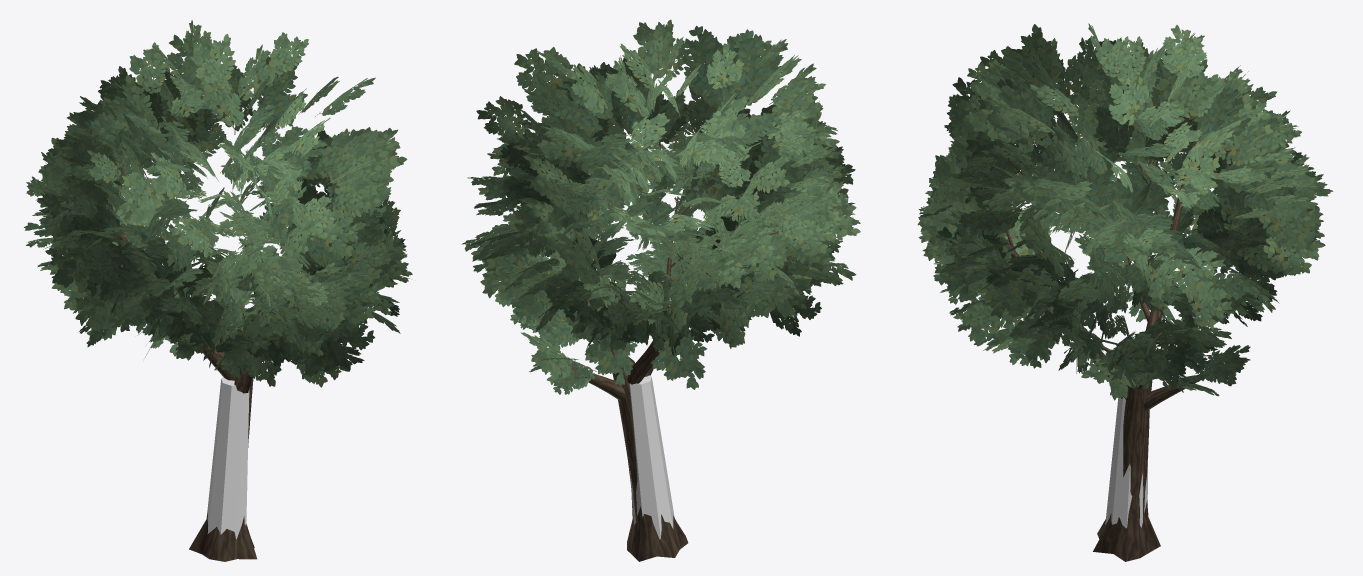
File: plaza_tree_a.gltf
3 renders of one model, left to right at view 1: azimuth 30°, elevation 25°; view 2: azimuth 150°, elevation 25°; view 3: azimuth 270°, elevation 25°, orthographic.
Visible parts, largest first — view 1: plaza_tree_a_LOD0, plaza_tree_a_col; view 2: plaza_tree_a_LOD0, plaza_tree_a_col; view 3: plaza_tree_a_LOD0, plaza_tree_a_col.
Boxes of the visible parts, x1,y1,x2,y2 form: plaza_tree_a_LOD0: [24, 20, 412, 561]; plaza_tree_a_col: [206, 377, 249, 539]; plaza_tree_a_LOD0: [461, 19, 860, 561]; plaza_tree_a_col: [629, 375, 674, 539]; plaza_tree_a_LOD0: [917, 23, 1333, 561]; plaza_tree_a_col: [1105, 397, 1148, 528].
Size of what is drawn, in the model's own units: 6.48 by 8.71 by 6.89.
2 materials, 2 textured.
